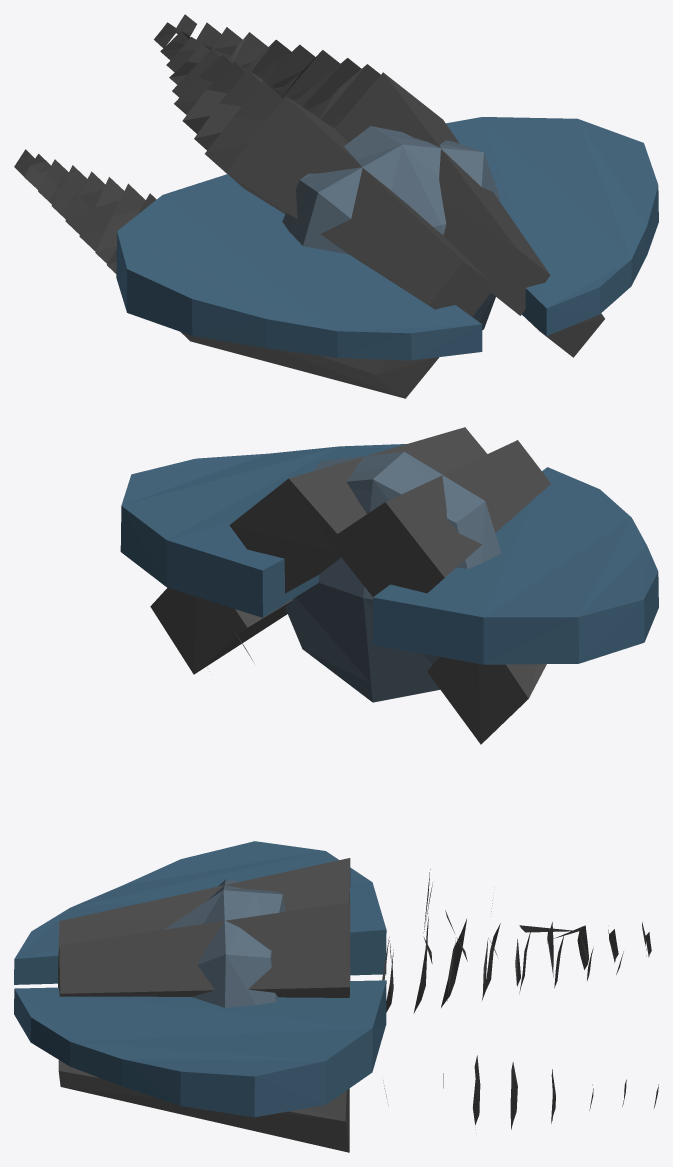
The model's file is ship_geom.gltf.
3 views of the same model, one above another, from view 1: azimuth 30°, elevation 25°; view 2: azimuth 150°, elevation 25°; view 3: azimuth 270°, elevation 25° (orthographic). The views are drawn at different scales.
Parts seen in each view (by area): view 1: ships; view 2: ships; view 3: ships.
Boxes of the visible parts, <box> form: ships: <box>14,14,658,398</box>; ships: <box>120,427,658,744</box>; ships: <box>14,841,658,1152</box>.
Bounding box in the file's own units: 1.93 × 0.8748 × 2.23.
